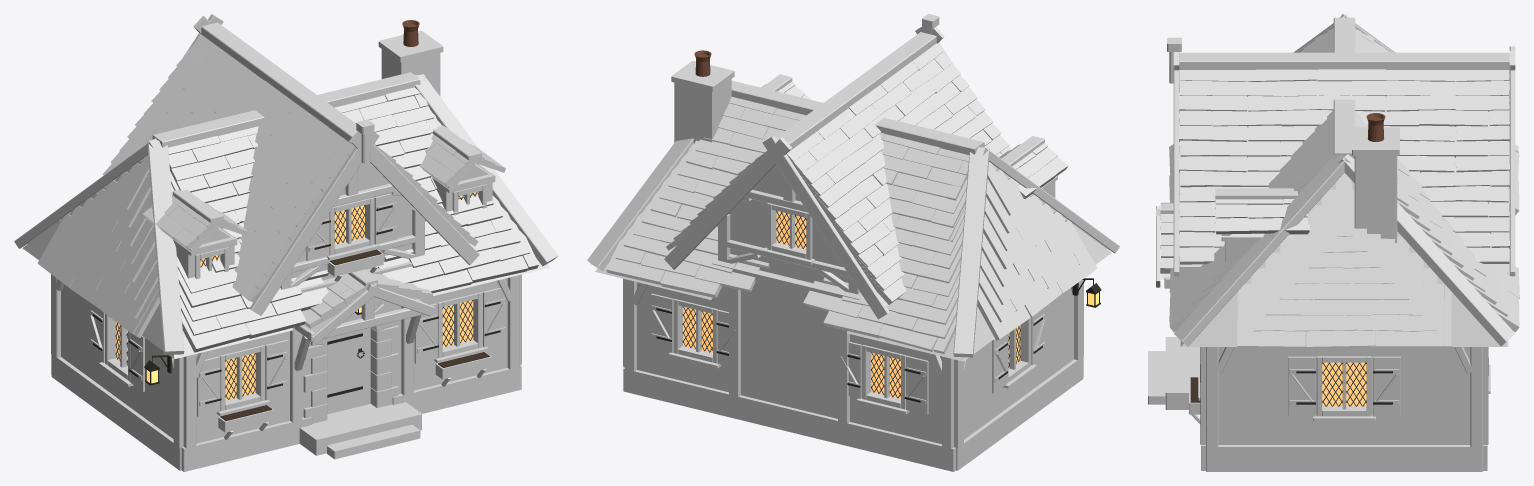
Rendered from SilverbrookCottage4.glb.
The picture shows the model from 3 angles, left to right: view 1: azimuth 30°, elevation 25°; view 2: azimuth 150°, elevation 25°; view 3: azimuth 270°, elevation 25°; orthographic projection. The views are drawn at different scales.
Parts seen in each view (by area): view 1: SM_SBCottage4_Roof, SM_SBCottage4_Masonry, SM_SBCottage4_Timber, SM_SBCottage4_Details, SM_SBCottage4_Details_Door1; view 2: SM_SBCottage4_Roof, SM_SBCottage4_Masonry, SM_SBCottage4_Timber, SM_SBCottage4_Details; view 3: SM_SBCottage4_Roof, SM_SBCottage4_Masonry, SM_SBCottage4_Timber, SM_SBCottage4_Details.
Boxes of the visible parts, bbox=[...] form: SM_SBCottage4_Roof: bbox=[14, 22, 558, 359]; SM_SBCottage4_Masonry: bbox=[51, 30, 521, 471]; SM_SBCottage4_Timber: bbox=[51, 14, 521, 448]; SM_SBCottage4_Details: bbox=[90, 20, 505, 420]; SM_SBCottage4_Details_Door1: bbox=[327, 312, 370, 414]; SM_SBCottage4_Roof: bbox=[587, 32, 1119, 361]; SM_SBCottage4_Masonry: bbox=[623, 60, 1083, 471]; SM_SBCottage4_Timber: bbox=[623, 14, 1083, 448]; SM_SBCottage4_Details: bbox=[651, 50, 1101, 414]; SM_SBCottage4_Roof: bbox=[1160, 14, 1519, 347]; SM_SBCottage4_Masonry: bbox=[1148, 127, 1487, 471]; SM_SBCottage4_Timber: bbox=[1156, 37, 1515, 447]; SM_SBCottage4_Details: bbox=[1190, 113, 1488, 416].
Size of the model in its own units: 7.91 by 5.98 by 5.91.
